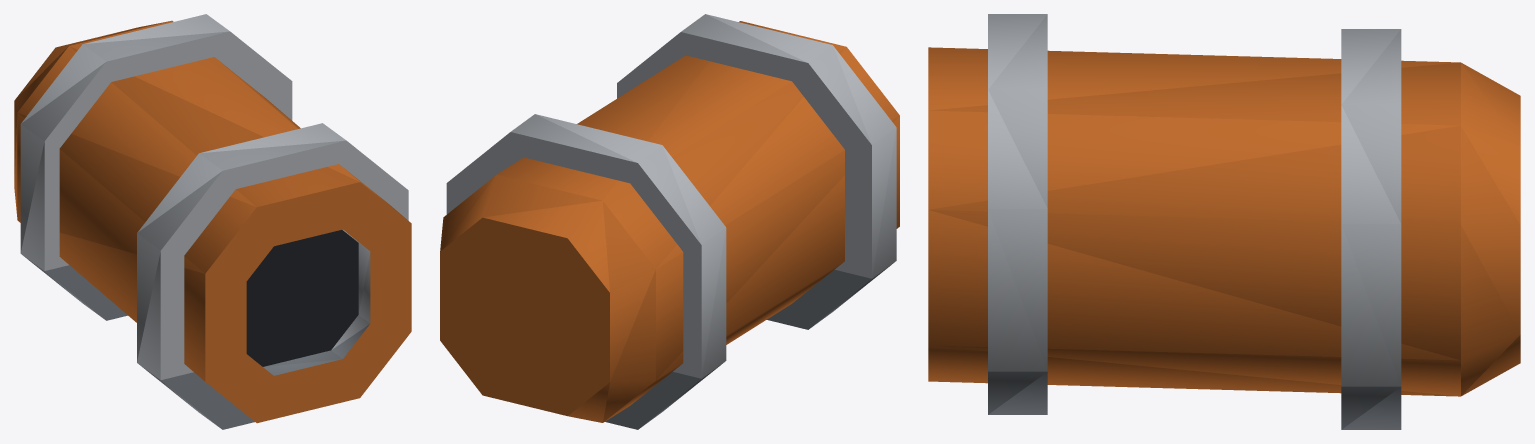
File: Kit_container-flat-open.fbx
The picture shows the model from 3 angles, left to right: view 1: azimuth 30°, elevation 25°; view 2: azimuth 150°, elevation 25°; view 3: azimuth 270°, elevation 25°; orthographic projection. The views are drawn at different scales.
Visible parts, largest first — view 1: Kit_container-flat-open; view 2: Kit_container-flat-open; view 3: Kit_container-flat-open.
Boxes of the visible parts, x1,y1,x2,y2 form: Kit_container-flat-open: [14, 14, 411, 429]; Kit_container-flat-open: [440, 14, 899, 429]; Kit_container-flat-open: [928, 14, 1520, 429].
Size of the model in its own units: 0.6595 by 0.6 by 0.9909.
